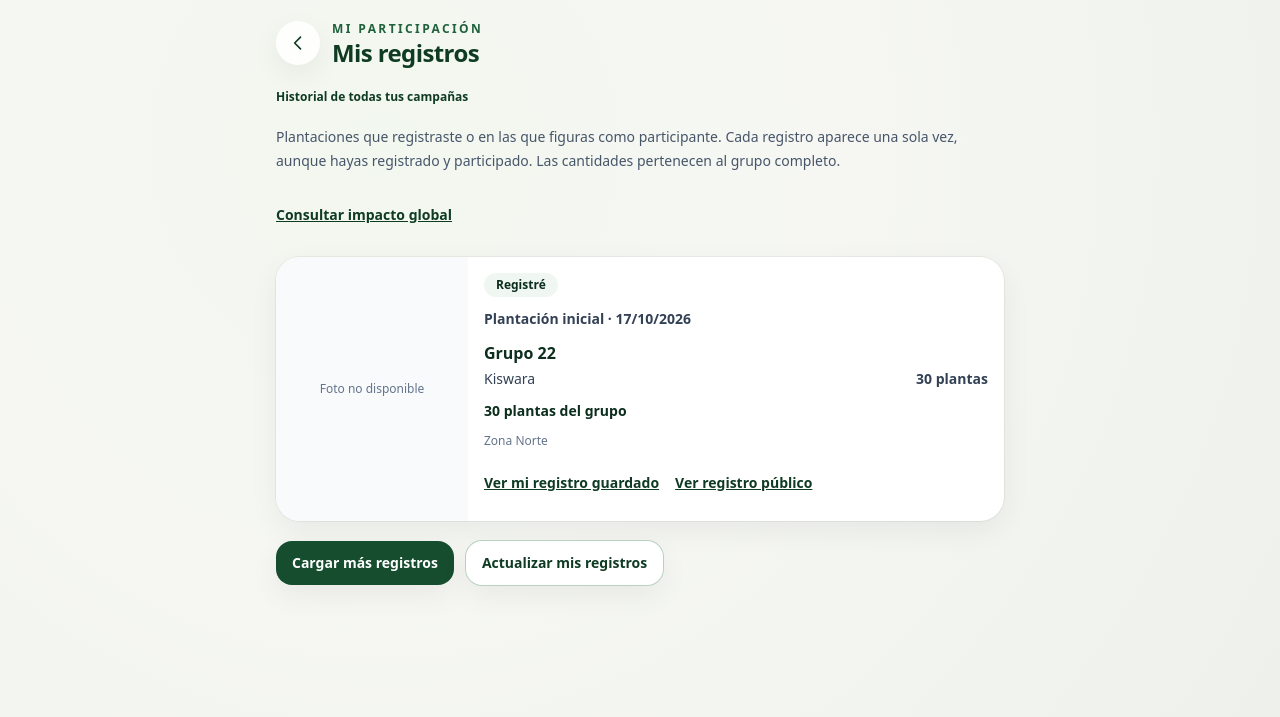
Test case: Mis registros por relación histórica › reinicia los cursores al actualizar tras haber recorrido páginas
Step 1. Click the button "Cargar más registros" → (365, 563), box [276,541,454,585]
(page scrolled)
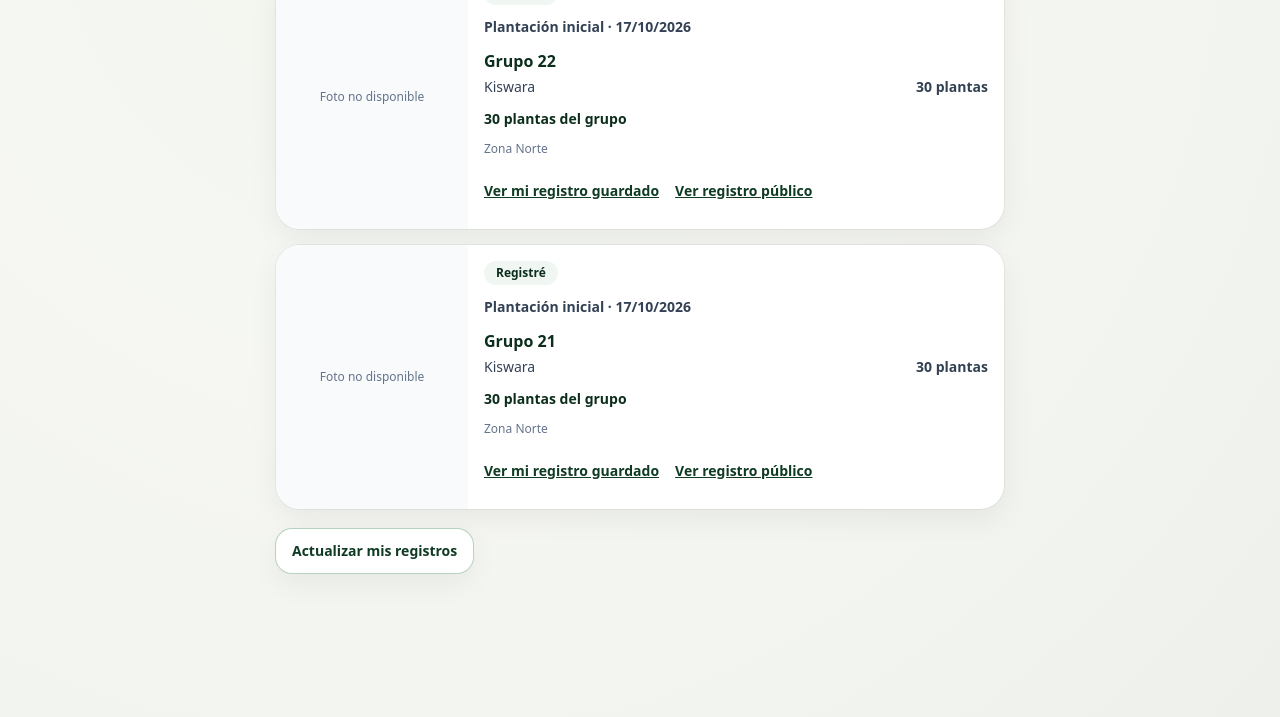
Check: the heading "Grupo 21" is shown, box [484,330,556,352]
Step 2. Click the button "Actualizar mis registros" → (375, 551), box [276,529,473,573]
(page scrolled)
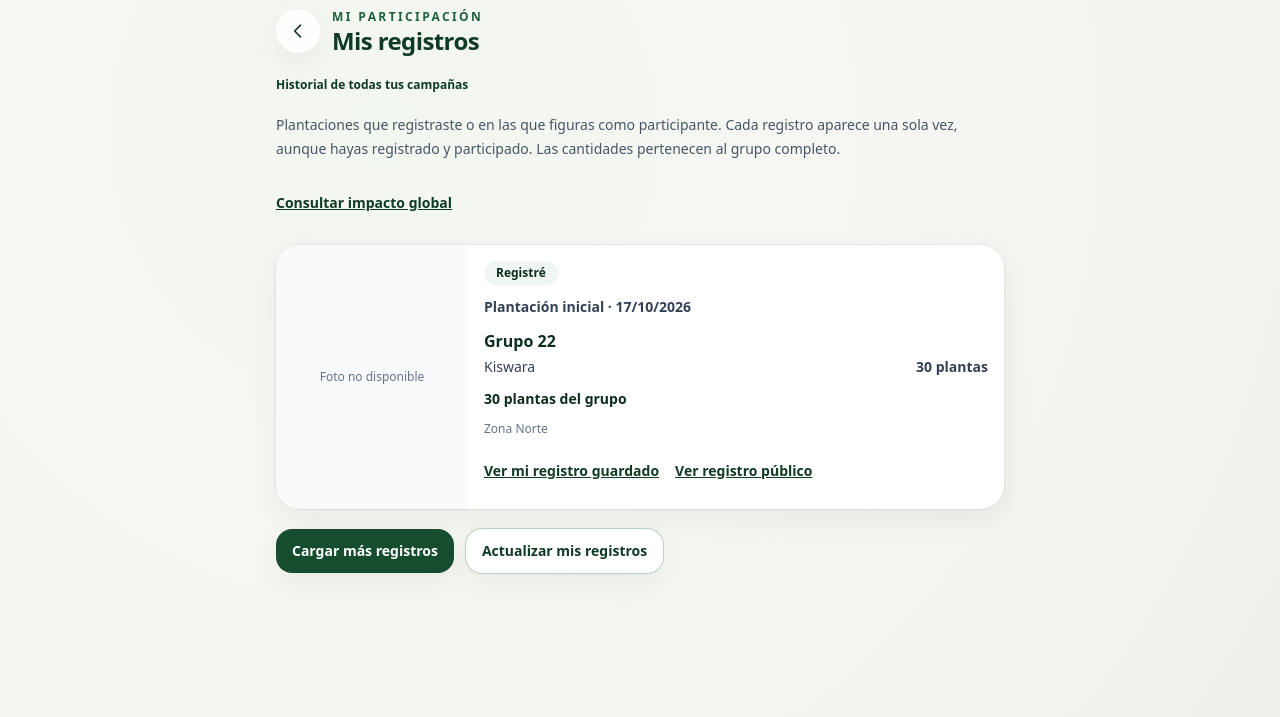
Check: the heading "Grupo 21" is gone
Check: the button "Cargar más registros" is shown, box [276,529,454,573]
